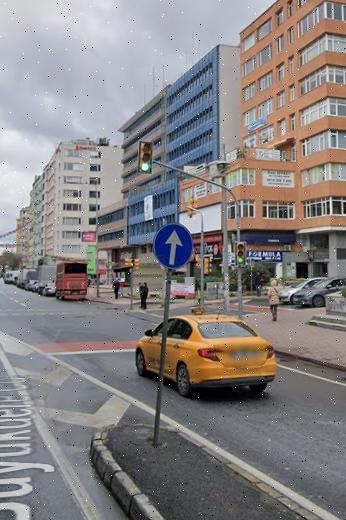forward: (151, 224, 199, 269)
greenlight: (139, 143, 154, 173)
